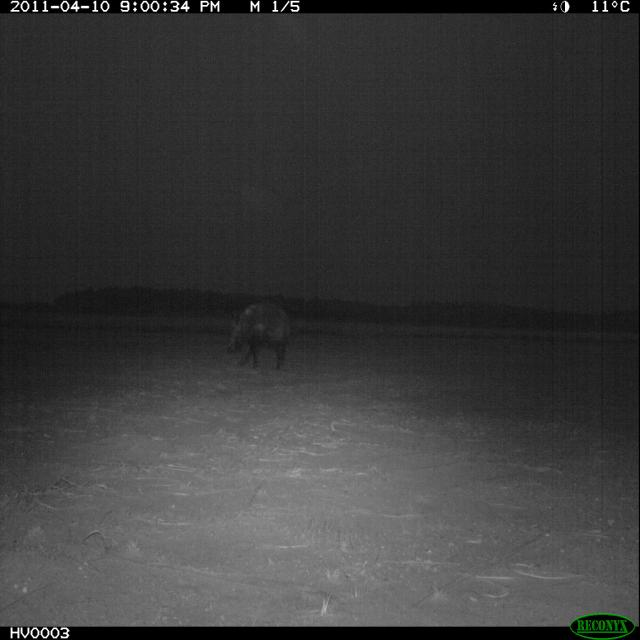boar: (212, 286, 310, 378)
